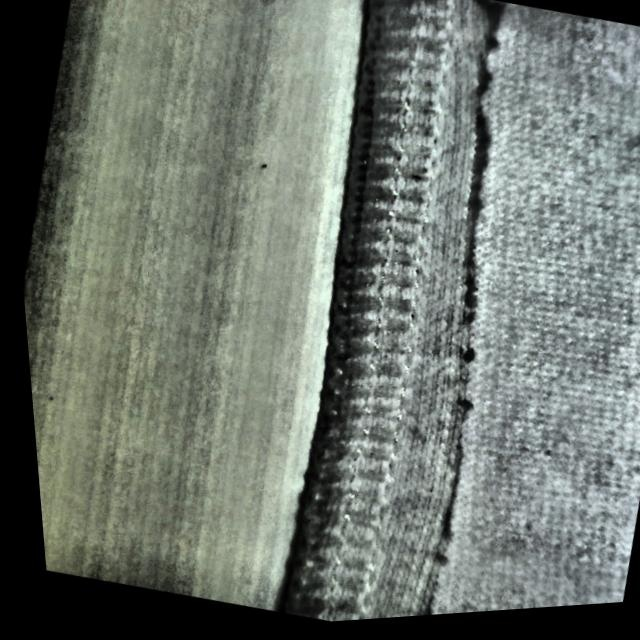seam: (208, 0, 615, 624)
